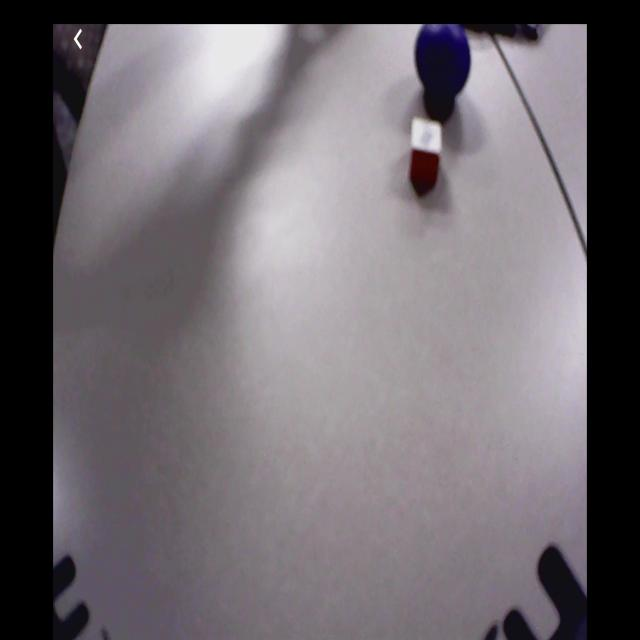ball: (416, 24, 471, 94)
